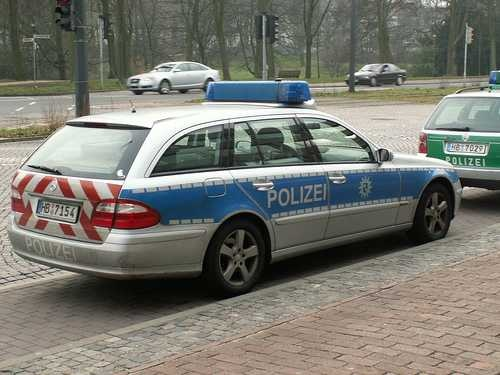Ambulance: (2, 75, 464, 264)
